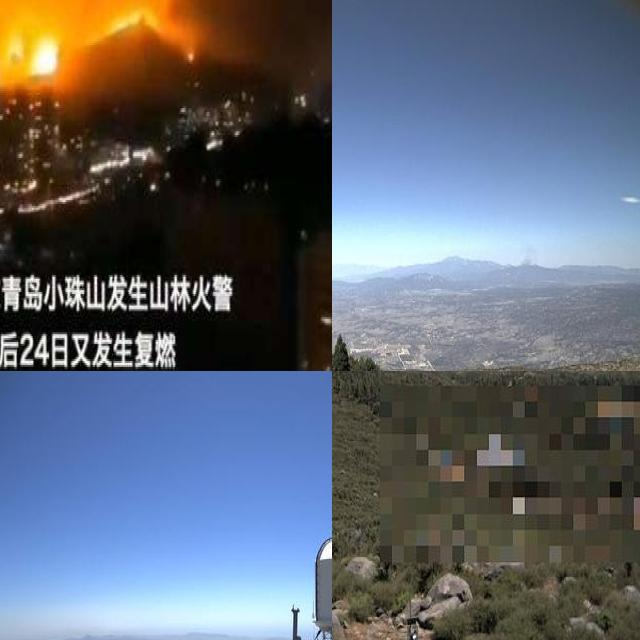fire: (0, 0, 180, 96)
smoke: (511, 245, 540, 285)
